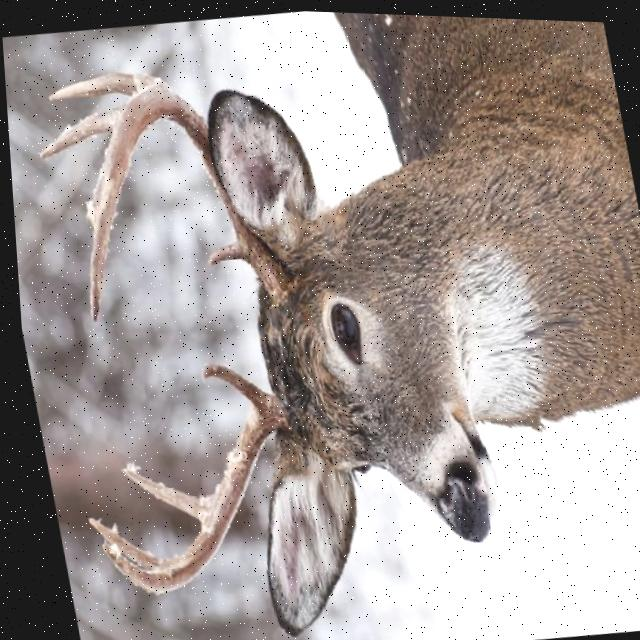L-F: (82, 82, 288, 324)
L-G1: (202, 237, 246, 266)
L-G2: (46, 69, 164, 100)
L-G3: (36, 103, 121, 160)
R-F: (93, 391, 282, 593)
R-G1: (194, 360, 263, 407)
R-G2: (113, 467, 204, 522)
R-G3: (79, 517, 172, 570)
